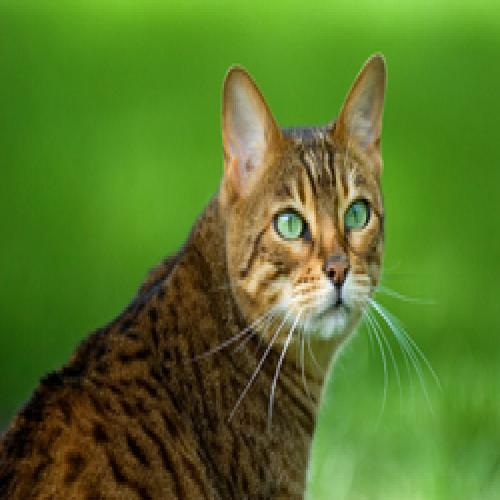bengal: (216, 48, 402, 371)
